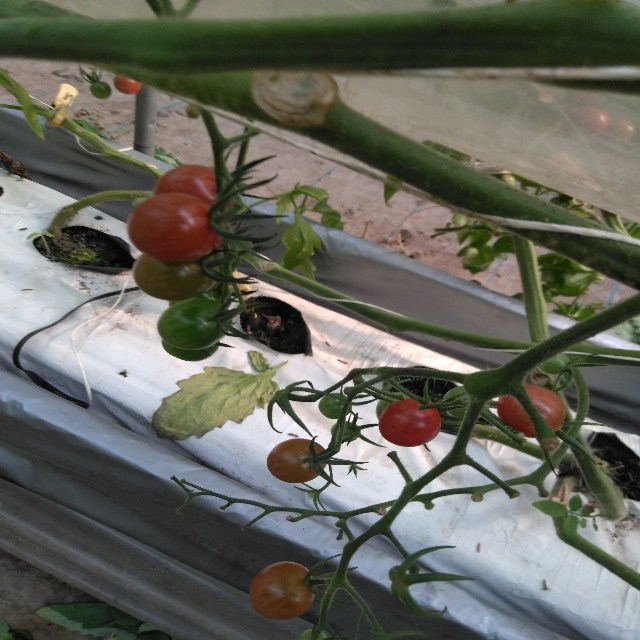l_fully_ripened: (127, 192, 226, 261), (153, 164, 233, 215), (379, 398, 441, 447), (113, 74, 141, 95)
l_green: (157, 299, 233, 351), (162, 338, 220, 362), (376, 391, 419, 420), (442, 385, 470, 418), (318, 393, 352, 419), (538, 353, 572, 376), (330, 420, 361, 442), (89, 80, 112, 99)
l_half_ripened: (132, 252, 218, 301), (250, 562, 317, 620), (496, 384, 565, 440), (266, 438, 329, 484)
